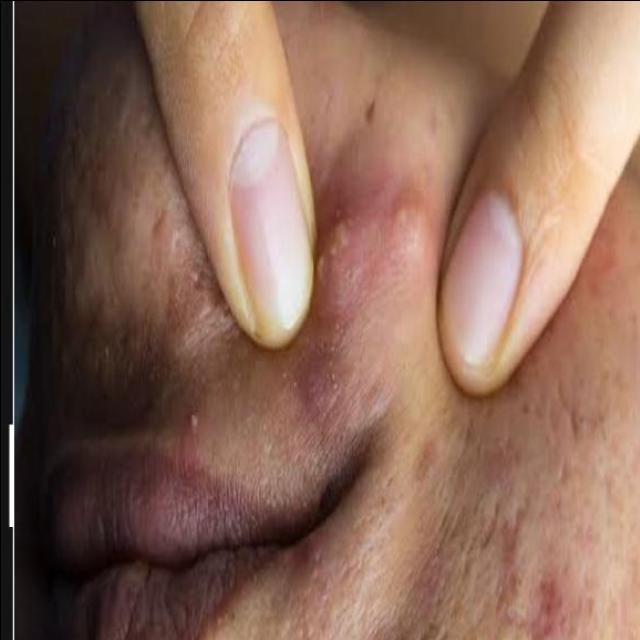nodule: (297, 170, 439, 360)
